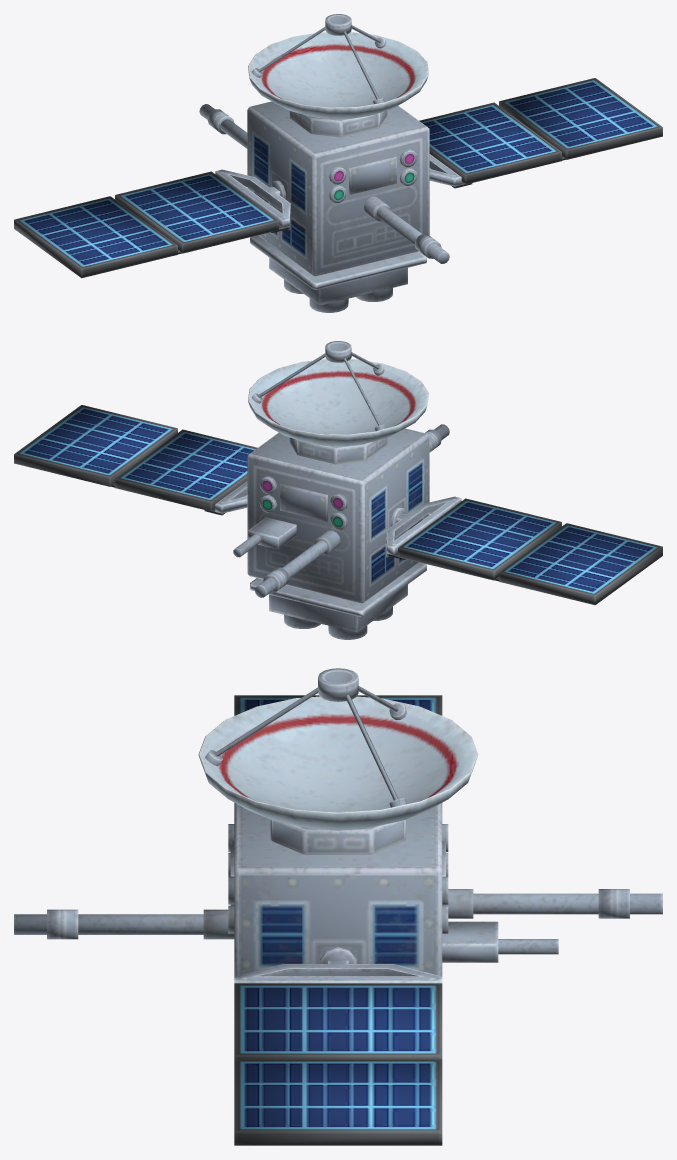
The model's file is FtrSatellite.glb.
The picture shows the model from 3 angles, top to bottom: view 1: azimuth 30°, elevation 25°; view 2: azimuth 150°, elevation 25°; view 3: azimuth 270°, elevation 25°; orthographic projection. The views are drawn at different scales.
Parts seen in each view (by area): view 1: mBody1_low__mBody; view 2: mBody1_low__mBody; view 3: mBody1_low__mBody.
Boxes of the visible parts, left/top/right/bottom form: mBody1_low__mBody: left=14, top=14, right=662, bottom=312; mBody1_low__mBody: left=14, top=341, right=662, bottom=639; mBody1_low__mBody: left=14, top=668, right=662, bottom=1145.
Bounding box in the file's own units: 19.4 × 8.62 × 12.2.
1 material, 1 textured.
